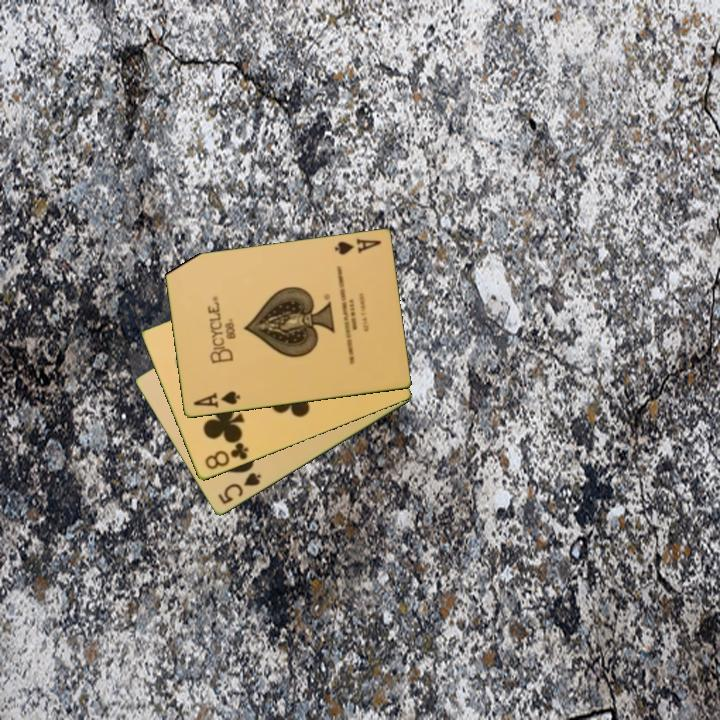5s: (215, 469, 264, 508)
8c: (201, 439, 252, 473)
As: (190, 388, 243, 411), (331, 235, 384, 258)
